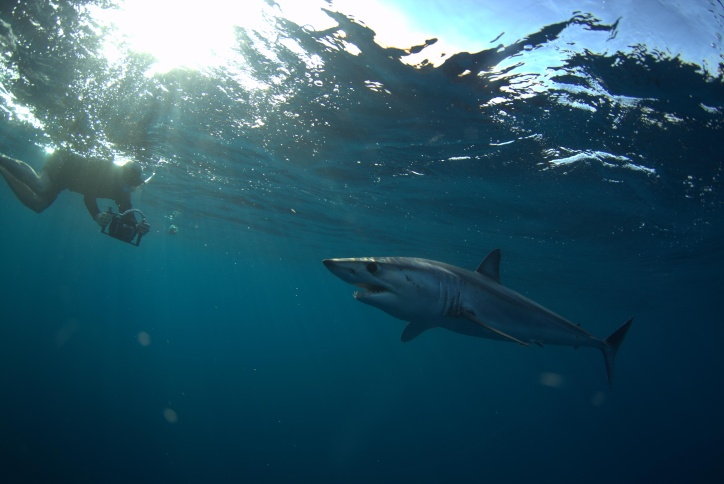Mako: (311, 239, 635, 399)
